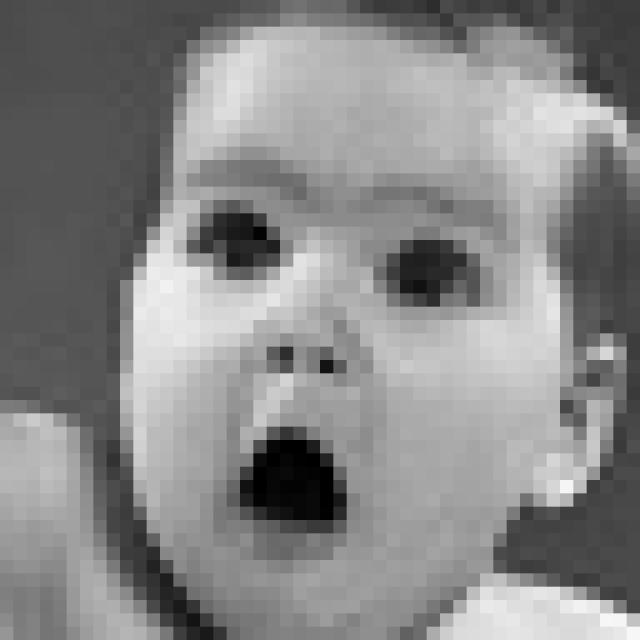surprise: (167, 150, 519, 559)
